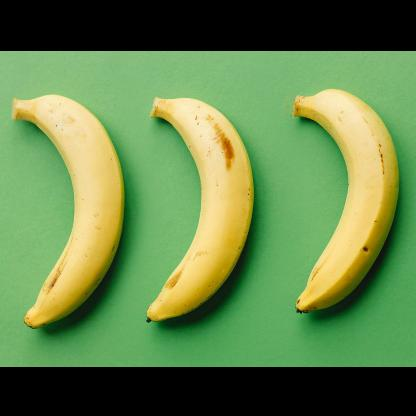banana: (13, 93, 124, 328), (146, 97, 254, 321), (294, 90, 400, 312)
